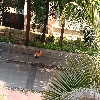fire: (35, 51, 43, 57)
